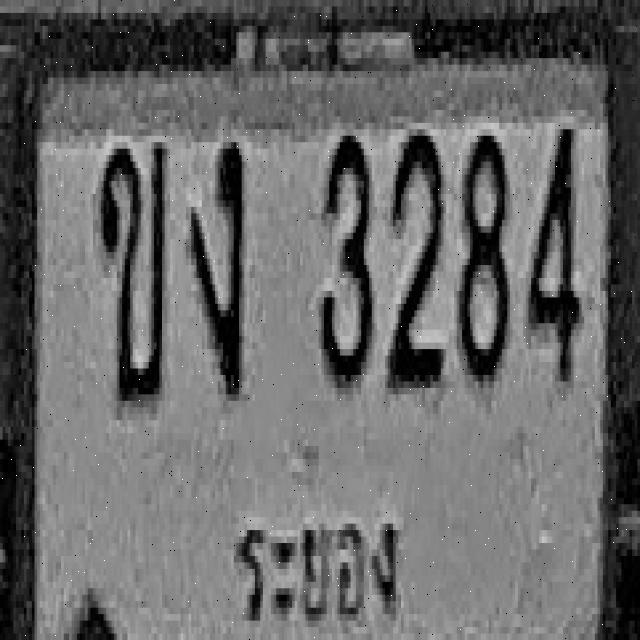11KhorKhai: (97, 139, 166, 404)
16NgorNgu: (188, 136, 244, 394)
2: (388, 130, 443, 388)
3: (318, 130, 372, 388)
4: (527, 123, 580, 381)
8: (457, 130, 507, 382)
Rayong: (235, 510, 411, 640)
